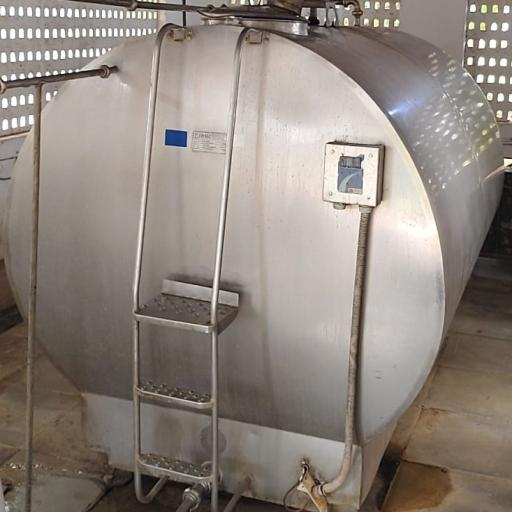silo: (3, 4, 504, 506)
